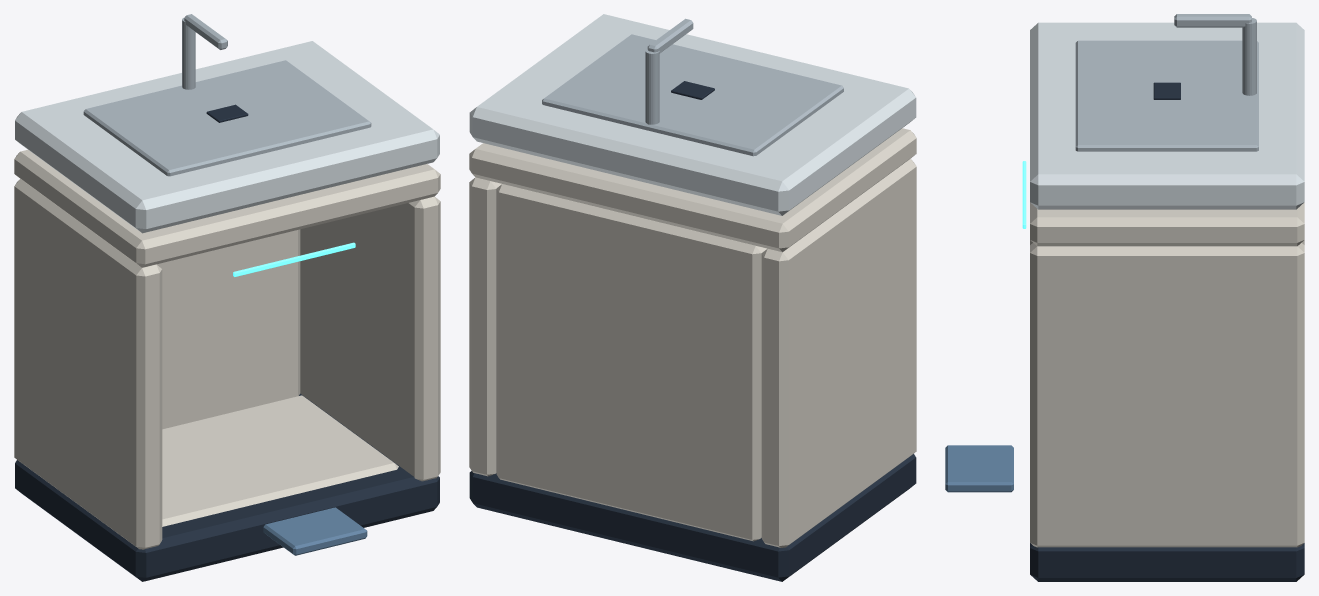
The model's file is ward_11.glb.
3 renders of one model, left to right at view 1: azimuth 30°, elevation 25°; view 2: azimuth 150°, elevation 25°; view 3: azimuth 270°, elevation 25°, orthographic. The views are drawn at different scales.
Visible parts, largest first — view 1: Side (×2), WashRim, Back, Bottom, SinkWell, Base, Top, Pedal, TapUpright, StatusLight, TapSpout; view 2: Back, Side (×2), WashRim, SinkWell, Top, Base, TapUpright, TapSpout; view 3: Side, WashRim, SinkWell, Top, Base, Pedal, TapUpright, TapSpout, Drain.
Boxes of the visible parts, x1,y1,x2,y2 form: Side (×2): (14,179,440,549); WashRim: (15,41,439,233); Back: (156,229,300,429); Bottom: (162,395,398,526); SinkWell: (83,60,371,176); Base: (15,393,439,581); Top: (14,149,440,267); Pedal: (263,507,367,555); TapUpright: (182,17,195,89); StatusLight: (233,242,355,276); TapSpout: (184,14,227,49); Back: (496,184,766,541); Side (×2): (469,159,916,547); WashRim: (469,14,916,215); SinkWell: (542,34,843,156); Top: (469,128,916,252); Base: (469,454,916,581); TapUpright: (645,49,659,124); TapSpout: (647,18,693,53); Side: (1030,243,1304,547); WashRim: (1030,22,1304,209); SinkWell: (1075,40,1258,151); Top: (1030,202,1304,246); Base: (1030,543,1304,581); Pedal: (945,445,1013,492); TapUpright: (1242,18,1256,95); TapSpout: (1174,14,1251,27); Drain: (1153,82,1180,99).
Size of the model in its own units: 0.82 by 1.18 by 0.785.
